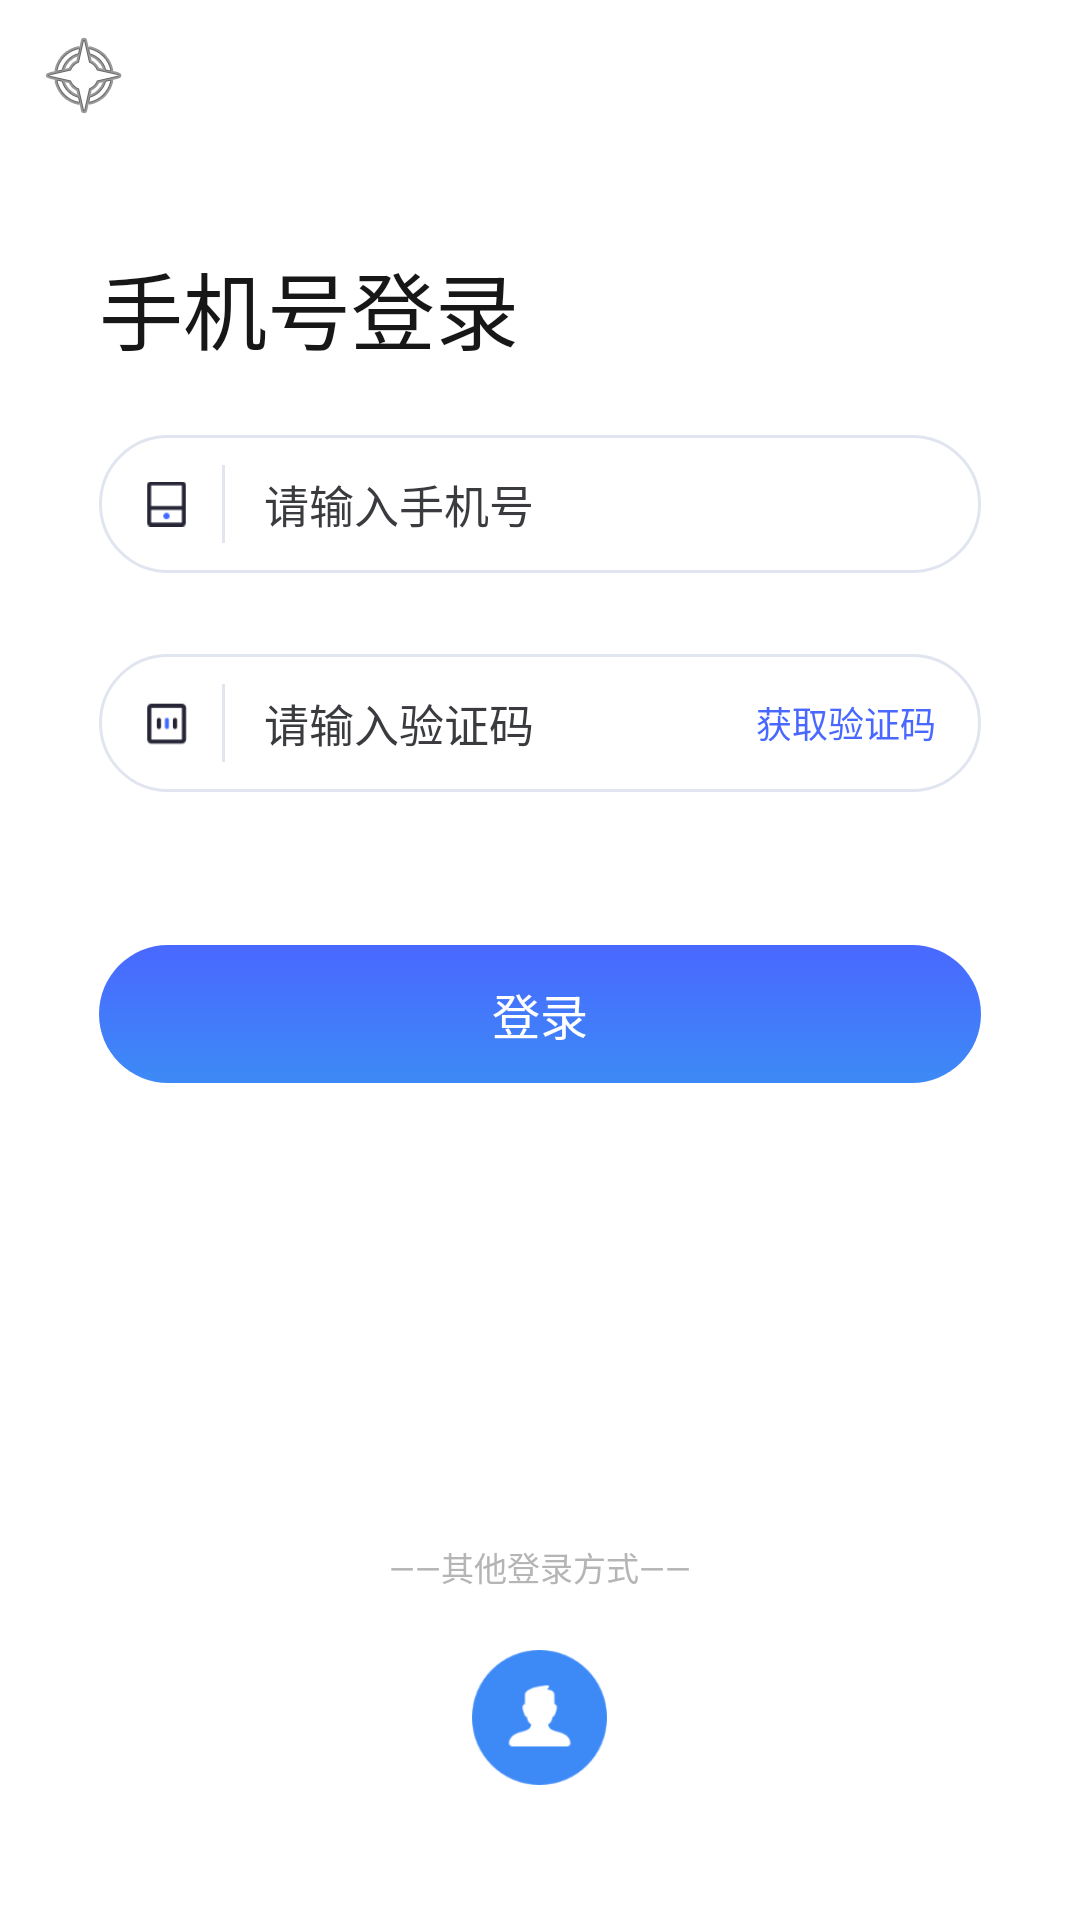

Icons on this 1080 × 1920 Android screen, each with the point to tap as point (x, y):
accounticon: point (539, 1717)
phone: point (166, 504)
pwdicon: point (167, 724)
